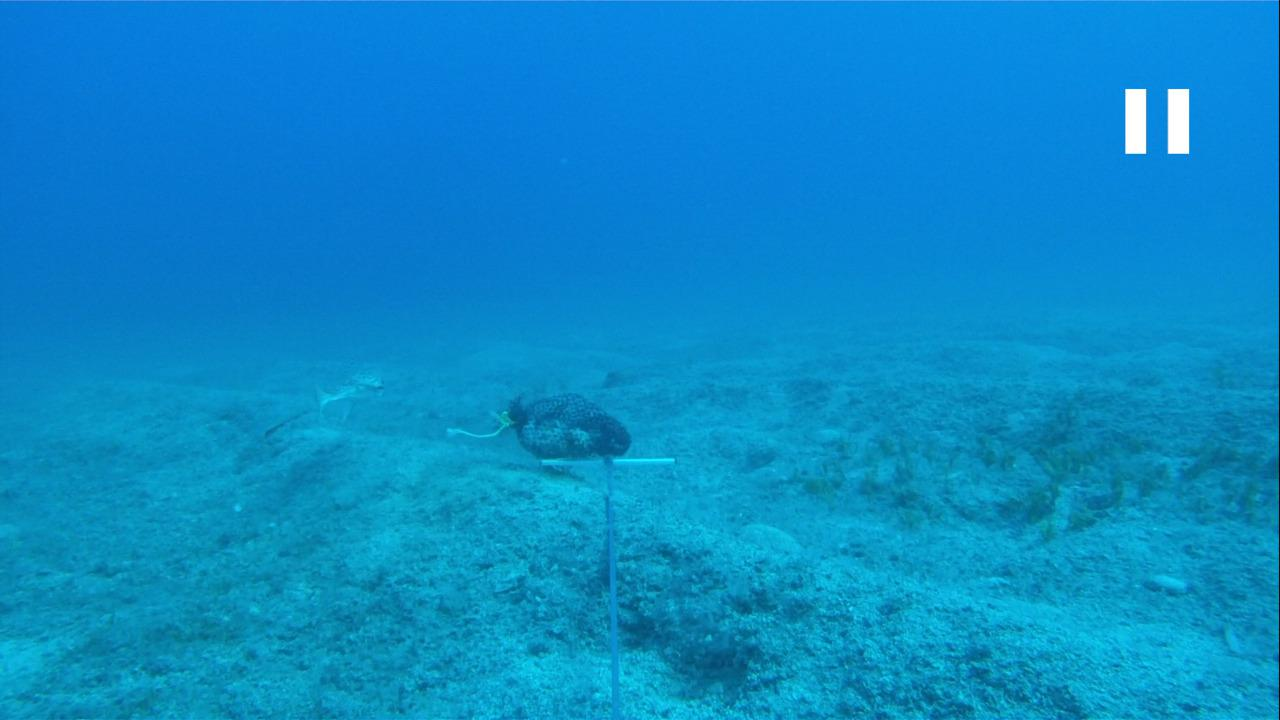dactylopterus: (303, 357, 395, 432)
